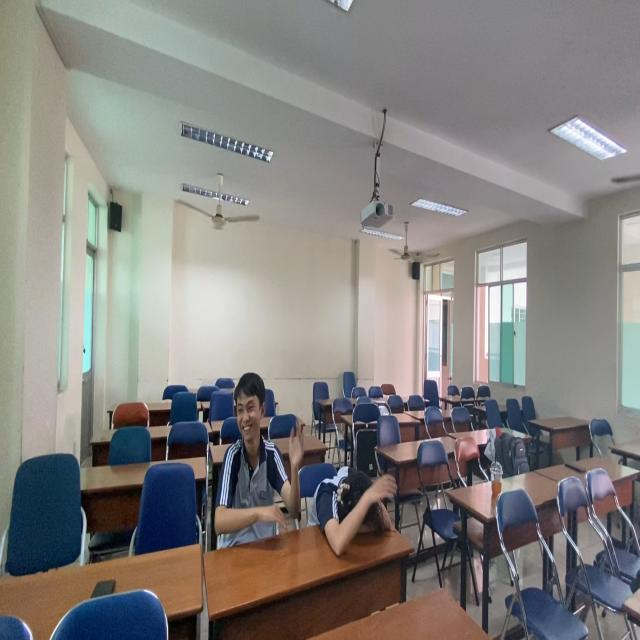raise_hand: (214, 368, 310, 556)
sleep: (310, 459, 406, 558)
